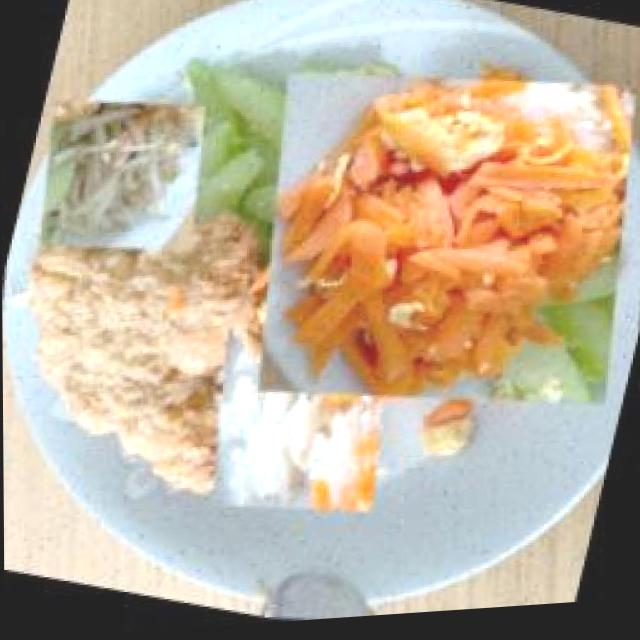carrot_eggs: (210, 9, 640, 482)
fried_chicken: (1, 164, 301, 540)
mung_bean_sprouts: (17, 71, 227, 285)
rice: (182, 298, 418, 546)
